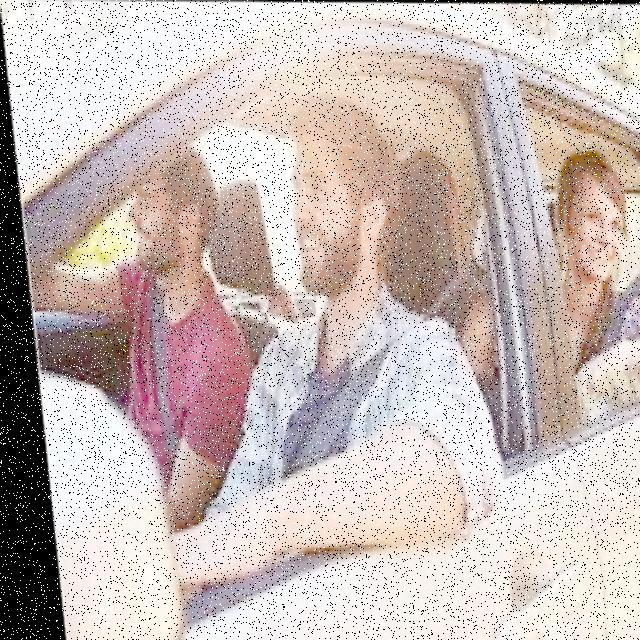seatbelt: (232, 276, 474, 528), (104, 252, 213, 520)
